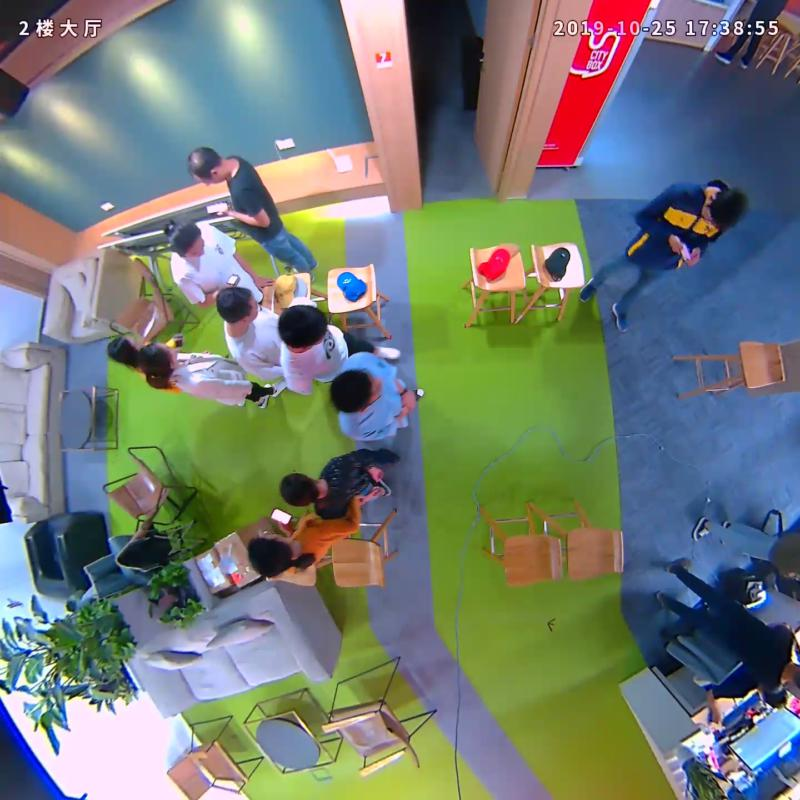head: (330, 369, 383, 413), (277, 303, 327, 347), (247, 531, 291, 579), (701, 188, 748, 228), (215, 286, 259, 324), (279, 471, 321, 507), (186, 147, 226, 184), (167, 220, 204, 259), (137, 341, 179, 374), (106, 333, 140, 364)
